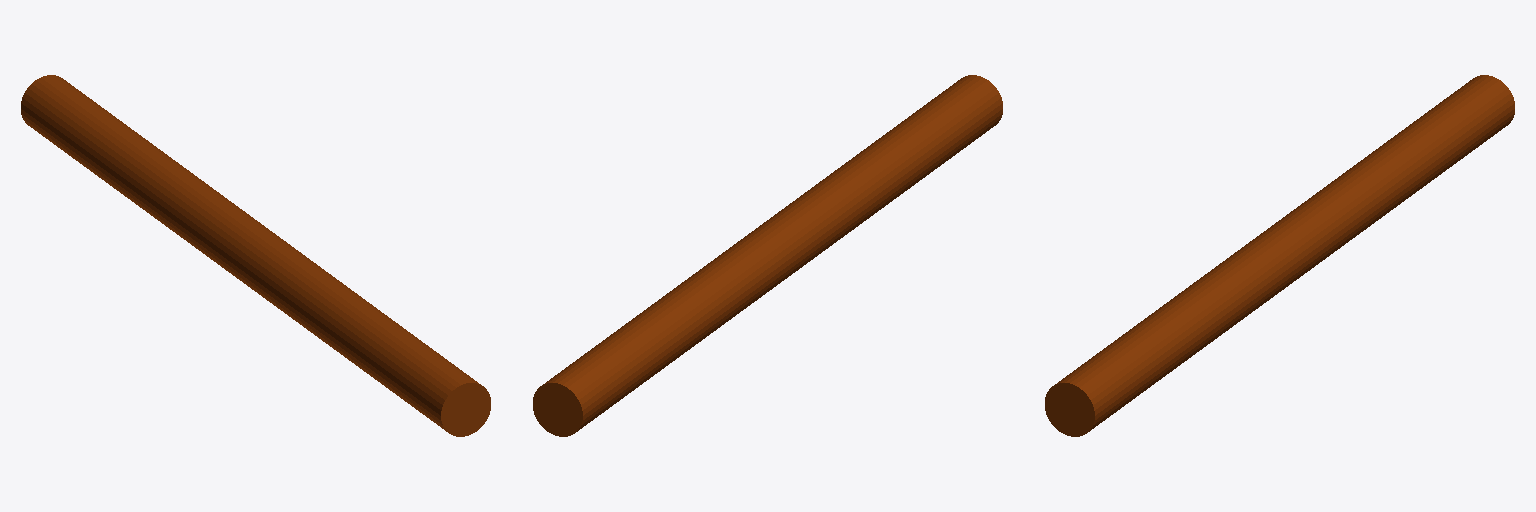
robot.urdf — cylinder:
<?xml version="1.0" ?>
<!-- =================================================================================== -->
<!-- |    This document was autogenerated by xacro from cylinder.xacro                 | -->
<!-- |    EDITING THIS FILE BY HAND IS NOT RECOMMENDED                                 | -->
<!-- =================================================================================== -->
<robot name="cylinder">
  <link name="world"/>
  <link name="base">
    <visual>
      <origin rpy="1.57079633 0 0" xyz="0 0 0"/>
      <geometry>
        <cylinder length="7.07106781185" radius="0.245"/>
      </geometry>
      <material name="cylinder_material">
        <color rgba="0.545 0.271 0.075 1.0"/>
        <texture filename="../textures/tree_bark.jpg"/>
      </material>
    </visual>
    <collision>
      <origin rpy="1.57079633 0 0" xyz="0 0 0"/>
      <geometry>
        <cylinder length="7.07106781185" radius="0.245"/>
      </geometry>
    </collision>
    <inertial>
      <origin rpy="0 0 0" xyz="0 0 0"/>
      <mass value="1"/>
      <inertia ixx="4.181672916648429" ixy="0.0" ixz="0.0" iyy="4.181672916648429" iyz="0.0" izz="24.999999999890573"/>
    </inertial>
  </link>
  <joint name="base_joint" type="fixed">
    <parent link="world"/>
    <child link="base"/>
    <origin rpy="0 0 0" xyz="0.0 0.0 0.0"/>
  </joint>
</robot>

--- Render facts (derived) ---
The picture shows the robot from 3 angles, left to right: view 1: azimuth 30°, elevation 25°; view 2: azimuth 150°, elevation 25°; view 3: azimuth 330°, elevation 25°; orthographic projection.
Model cylinder with 2 links and 1 joints (1 fixed), rooted at world, posed all joints at 0.
Links seen in each view (by area): view 1: base; view 2: base; view 3: base.
Boxes of the visible links, x1=… form: base: x1=21, y1=75, x2=490, y2=436; base: x1=533, y1=75, x2=1002, y2=436; base: x1=1045, y1=75, x2=1514, y2=436.
Bounding box of the posed robot: 0.49 × 7.07 × 0.49 m (x, y, z).
Geometry: primitives only (box / cylinder / sphere), no mesh files.
